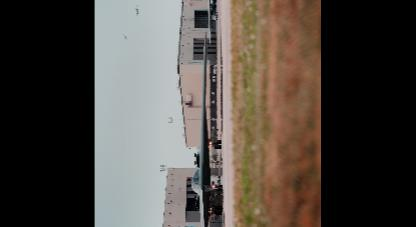A10: (122, 34, 127, 42), (135, 4, 138, 17)
B1: (190, 30, 221, 226), (201, 0, 220, 47)
